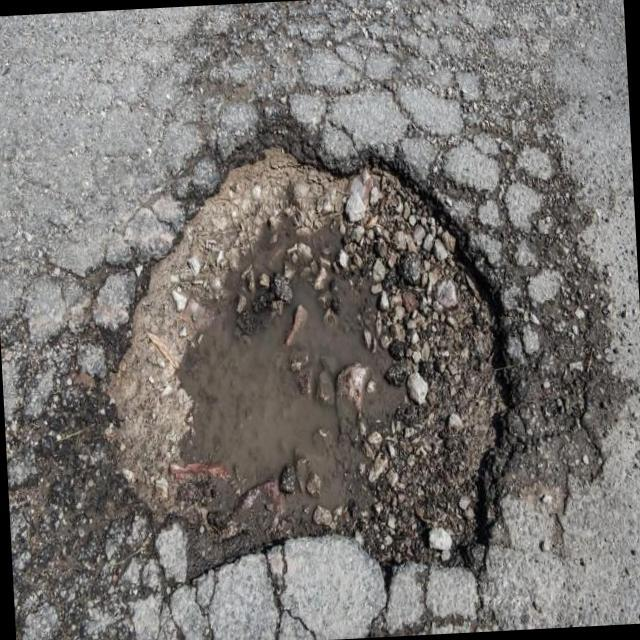Pothole: (118, 150, 505, 574)
